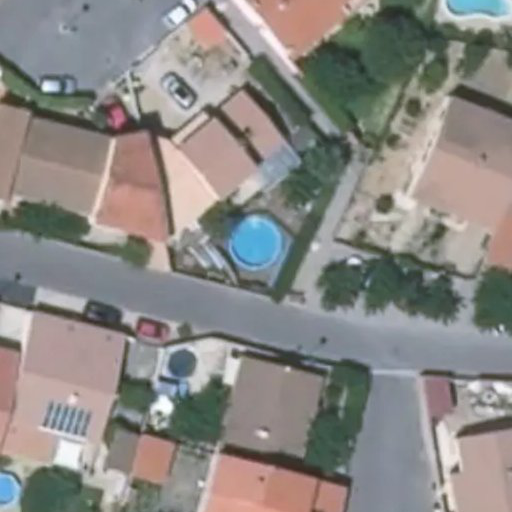pool: (221, 227, 289, 256)
